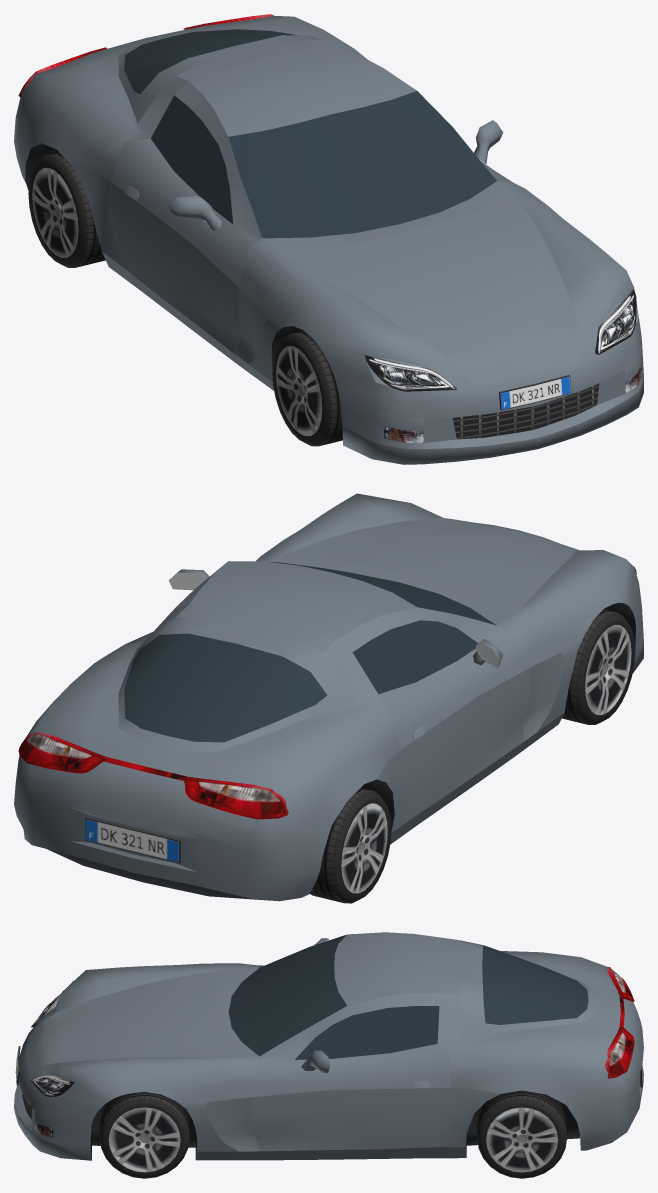
File: sport.glb
3 views of the same model, one above another, from view 1: azimuth 30°, elevation 25°; view 2: azimuth 150°, elevation 25°; view 3: azimuth 270°, elevation 25° (orthographic). The views are drawn at different scales.
Parts seen in each view (by area): view 1: paint-Body-body, glass-Glass-body, rubber-Tires-(False, False), rubber-Tires-(False, True), trim-AirEntrance-body, headlamp-FrontLights-body, trim-LicensePlate-body, rubber-WheelArch-body, headlamp-FrontFogLights-body, taillamp-RearLights-body; view 2: paint-Body-body, glass-Glass-body, rubber-Tires-(False, True), rubber-Tires-(False, False), taillamp-RearLights-body, trim-LicensePlate-body, rubber-BlackPlastic-body, rubber-WheelArch-body, mirror-Mirror-body; view 3: paint-Body-body, glass-Glass-body, rubber-Tires-(True, True), rubber-Tires-(True, False), taillamp-RearLights-body, rubber-WheelArch-body, headlamp-FrontLights-body.
Boxes of the visible parts, left/top/right/bottom form: paint-Body-body: left=14, top=15, right=643, bottom=464; glass-Glass-body: left=124, top=29, right=496, bottom=238; rubber-Tires-(False, False): left=272, top=330, right=342, bottom=446; rubber-Tires-(False, True): left=28, top=152, right=105, bottom=267; trim-AirEntrance-body: left=452, top=383, right=599, bottom=439; headlamp-FrontLights-body: left=364, top=289, right=636, bottom=391; trim-LicensePlate-body: left=499, top=375, right=571, bottom=410; rubber-WheelArch-body: left=25, top=143, right=302, bottom=366; headlamp-FrontFogLights-body: left=384, top=363, right=641, bottom=443; taillamp-RearLights-body: left=18, top=14, right=273, bottom=97; paint-Body-body: left=14, top=493, right=643, bottom=901; glass-Glass-body: left=124, top=561, right=496, bottom=742; rubber-Tires-(False, True): left=310, top=788, right=391, bottom=903; rubber-Tires-(False, False): left=562, top=609, right=635, bottom=724; taillamp-RearLights-body: left=18, top=732, right=288, bottom=819; trim-LicensePlate-body: left=85, top=817, right=180, bottom=863; rubber-BlackPlastic-body: left=47, top=849, right=273, bottom=900; rubber-WheelArch-body: left=361, top=602, right=635, bottom=828; mirror-Mirror-body: left=168, top=572, right=499, bottom=668; paint-Body-body: left=14, top=932, right=643, bottom=1160; glass-Glass-body: left=228, top=934, right=588, bottom=1059; rubber-Tires-(True, True): left=477, top=1090, right=566, bottom=1178; rubber-Tires-(True, False): left=99, top=1092, right=189, bottom=1178; taillamp-RearLights-body: left=605, top=967, right=634, bottom=1078; rubber-WheelArch-body: left=90, top=1100, right=580, bottom=1158; headlamp-FrontLights-body: left=30, top=980, right=74, bottom=1096.
Bounding box in the file's own units: 2.1 × 1.28 × 4.48.
15 materials, 8 textured.
